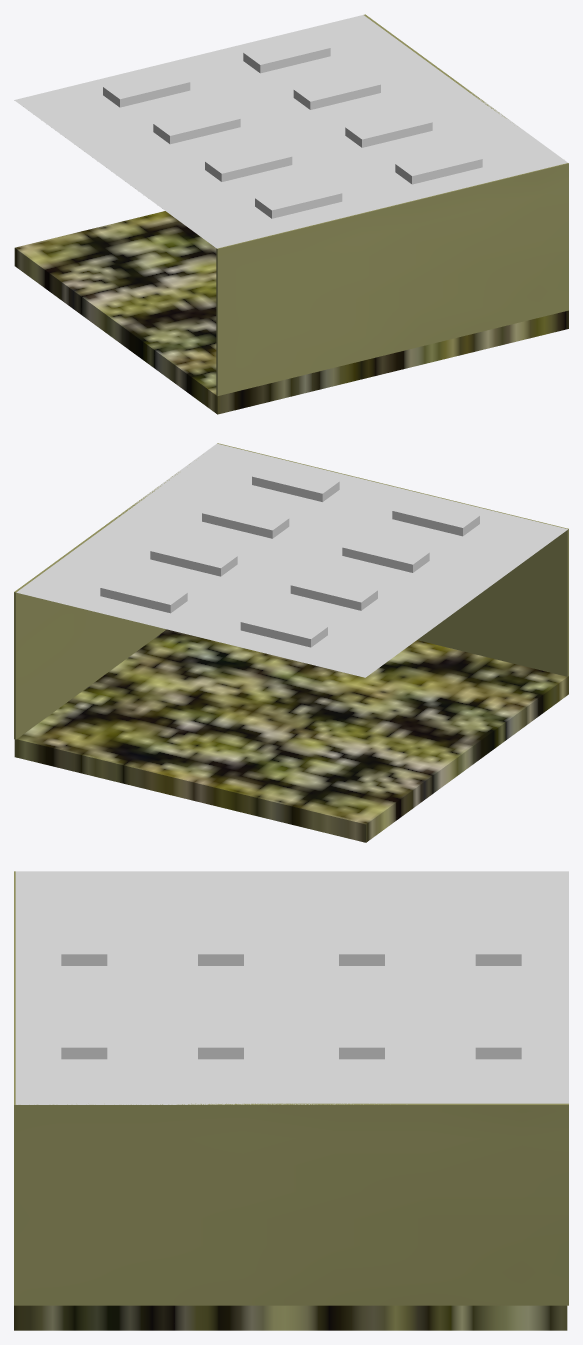
Rendered from BackroomsLevelZero - 14.fbx.
3 renders of one model, top to bottom at view 1: azimuth 30°, elevation 25°; view 2: azimuth 150°, elevation 25°; view 3: azimuth 270°, elevation 25°, orthographic. The views are drawn at different scales.
Visible parts, largest first — view 1: Floor.034, Wall.008, Floor.001, Cube.183, Cube.182, Cube.184, Cube.180, Cube.181, Cube.185, Cube.179, Cube.186; view 2: Floor.001, Floor.034, Wall.007, Wall.008, Cube.184, Cube.186, Cube.182, Cube.185, Cube.183, Cube.179, Cube.180, Cube.181; view 3: Wall.007, Floor.034, Floor.001, Cube.179, Cube.182, Cube.185, Cube.186, Cube.180, Cube.181, Cube.183, Cube.184, Wall.008.
Boxes of the visible parts, bbox=[...] form: Floor.034: bbox=[14, 15, 567, 248]; Wall.008: bbox=[216, 163, 568, 396]; Floor.001: bbox=[14, 211, 568, 414]; Cube.183: bbox=[293, 72, 380, 109]; Cube.182: bbox=[243, 35, 330, 73]; Cube.184: bbox=[345, 110, 432, 147]; Cube.180: bbox=[153, 106, 240, 144]; Cube.181: bbox=[205, 144, 292, 181]; Cube.185: bbox=[255, 181, 342, 218]; Cube.179: bbox=[103, 70, 190, 107]; Cube.186: bbox=[395, 146, 482, 184]; Floor.001: bbox=[14, 629, 568, 842]; Floor.034: bbox=[16, 443, 567, 677]; Wall.007: bbox=[14, 464, 189, 739]; Wall.008: bbox=[217, 443, 568, 676]; Cube.184: bbox=[202, 501, 289, 538]; Cube.186: bbox=[252, 464, 339, 501]; Cube.182: bbox=[100, 575, 187, 613]; Cube.185: bbox=[392, 498, 479, 536]; Cube.183: bbox=[150, 538, 237, 576]; Cube.179: bbox=[240, 609, 327, 647]; Cube.180: bbox=[290, 573, 377, 610]; Cube.181: bbox=[342, 535, 429, 572]; Wall.007: bbox=[15, 1103, 568, 1305]; Floor.034: bbox=[15, 871, 568, 1104]; Floor.001: bbox=[14, 1305, 567, 1330]; Cube.179: bbox=[475, 907, 521, 965]; Cube.182: bbox=[475, 1001, 521, 1059]; Cube.185: bbox=[61, 907, 107, 965]; Cube.186: bbox=[61, 1001, 107, 1059]; Cube.180: bbox=[339, 907, 384, 965]; Cube.181: bbox=[198, 907, 243, 965]; Cube.183: bbox=[339, 1001, 384, 1059]; Cube.184: bbox=[198, 1001, 243, 1059]; Wall.008: bbox=[14, 871, 15, 1305].
Bounding box in the file's own units: 2000 × 946 × 2006.
